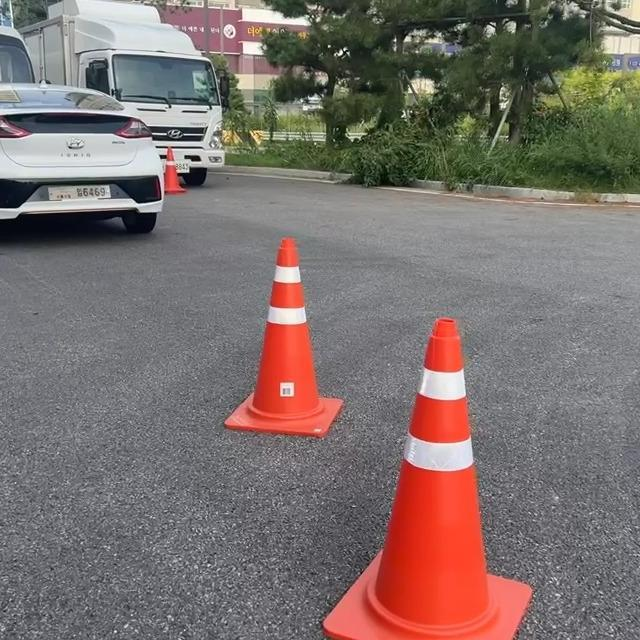fallen_object: (313, 250, 524, 628), (206, 205, 336, 446), (120, 125, 198, 196)
